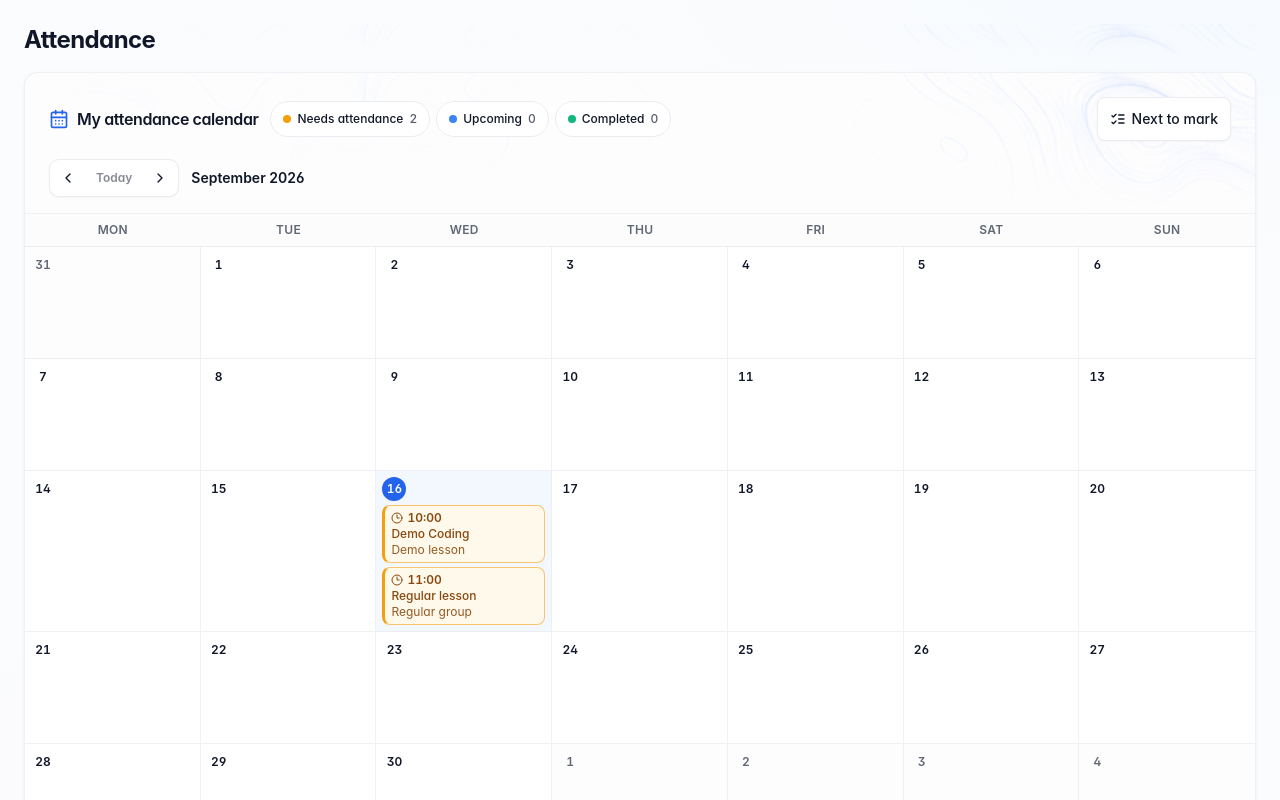
Test: teacher demo attendance › shows demos with regular lessons and opens a demo dialog without fetching a regular roster
Check: the button with test id "attendance-calendar-lesson-17" is shown, box [382,567,545,625]
Click the button with test id "attendance-calendar-lesson-demo:17" at [464, 534], box [382,505,545,563]
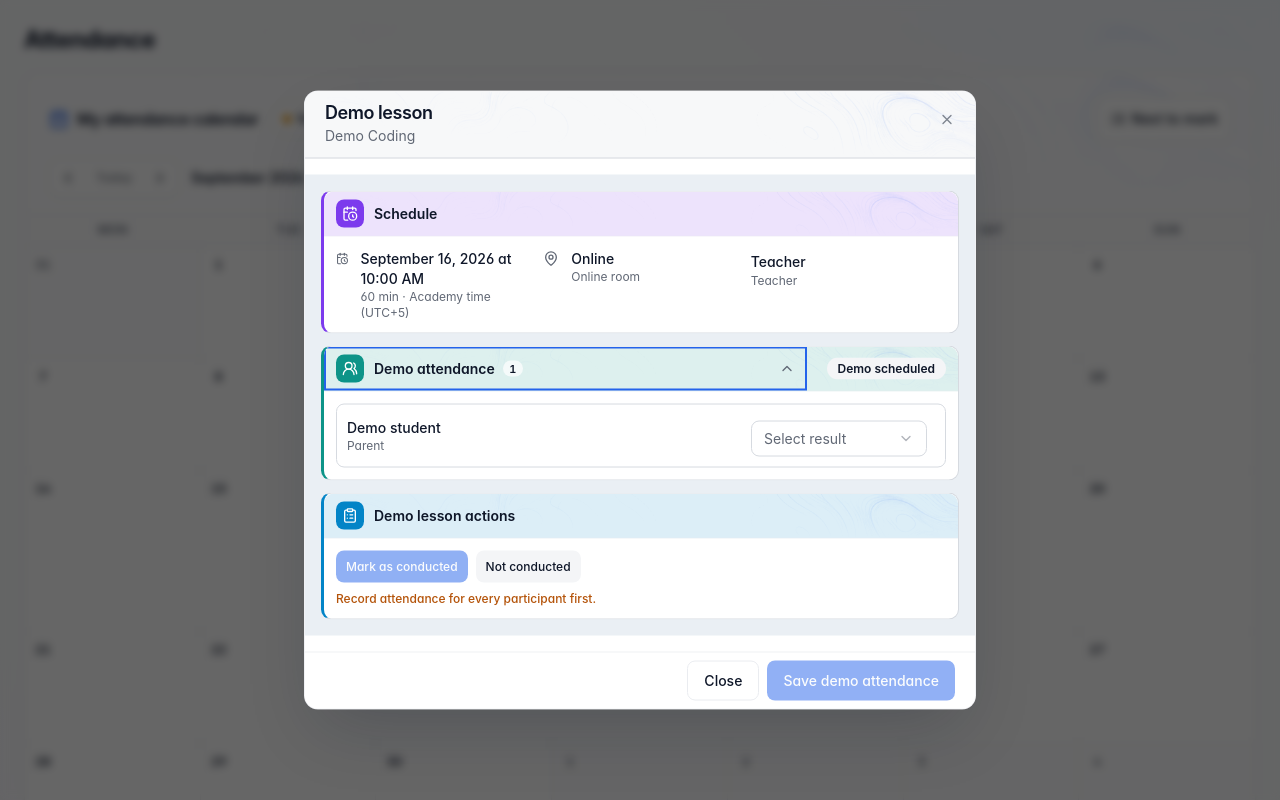
Check: the text "Demo student" is shown, box [347,418,441,436]
